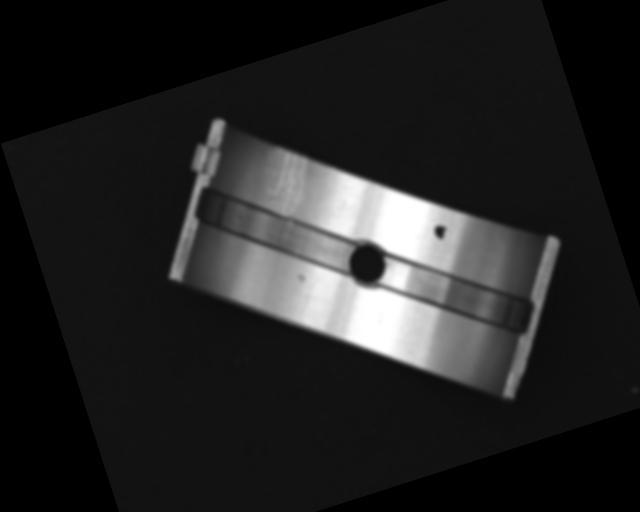blot: (431, 222, 449, 242)
bruise: (295, 272, 307, 283)
gap: (188, 148, 361, 306), (373, 220, 541, 370)
hole: (342, 238, 392, 291)
scratch: (251, 138, 324, 227)
